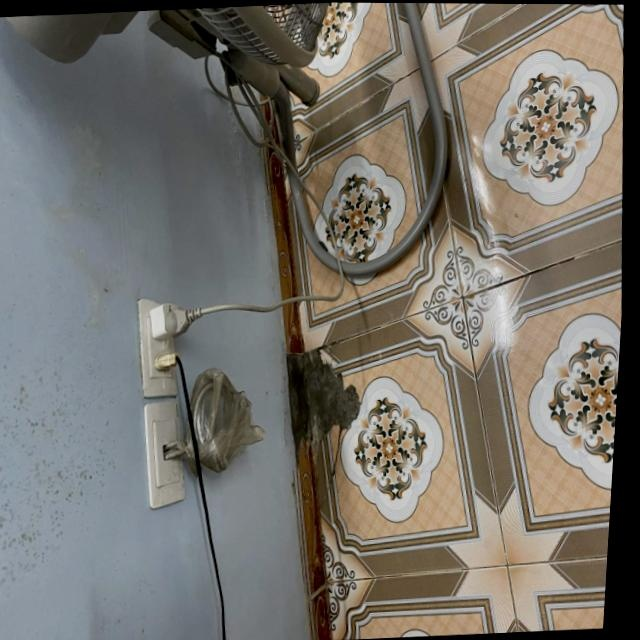outlet: (137, 399, 192, 510), (131, 297, 184, 399)
